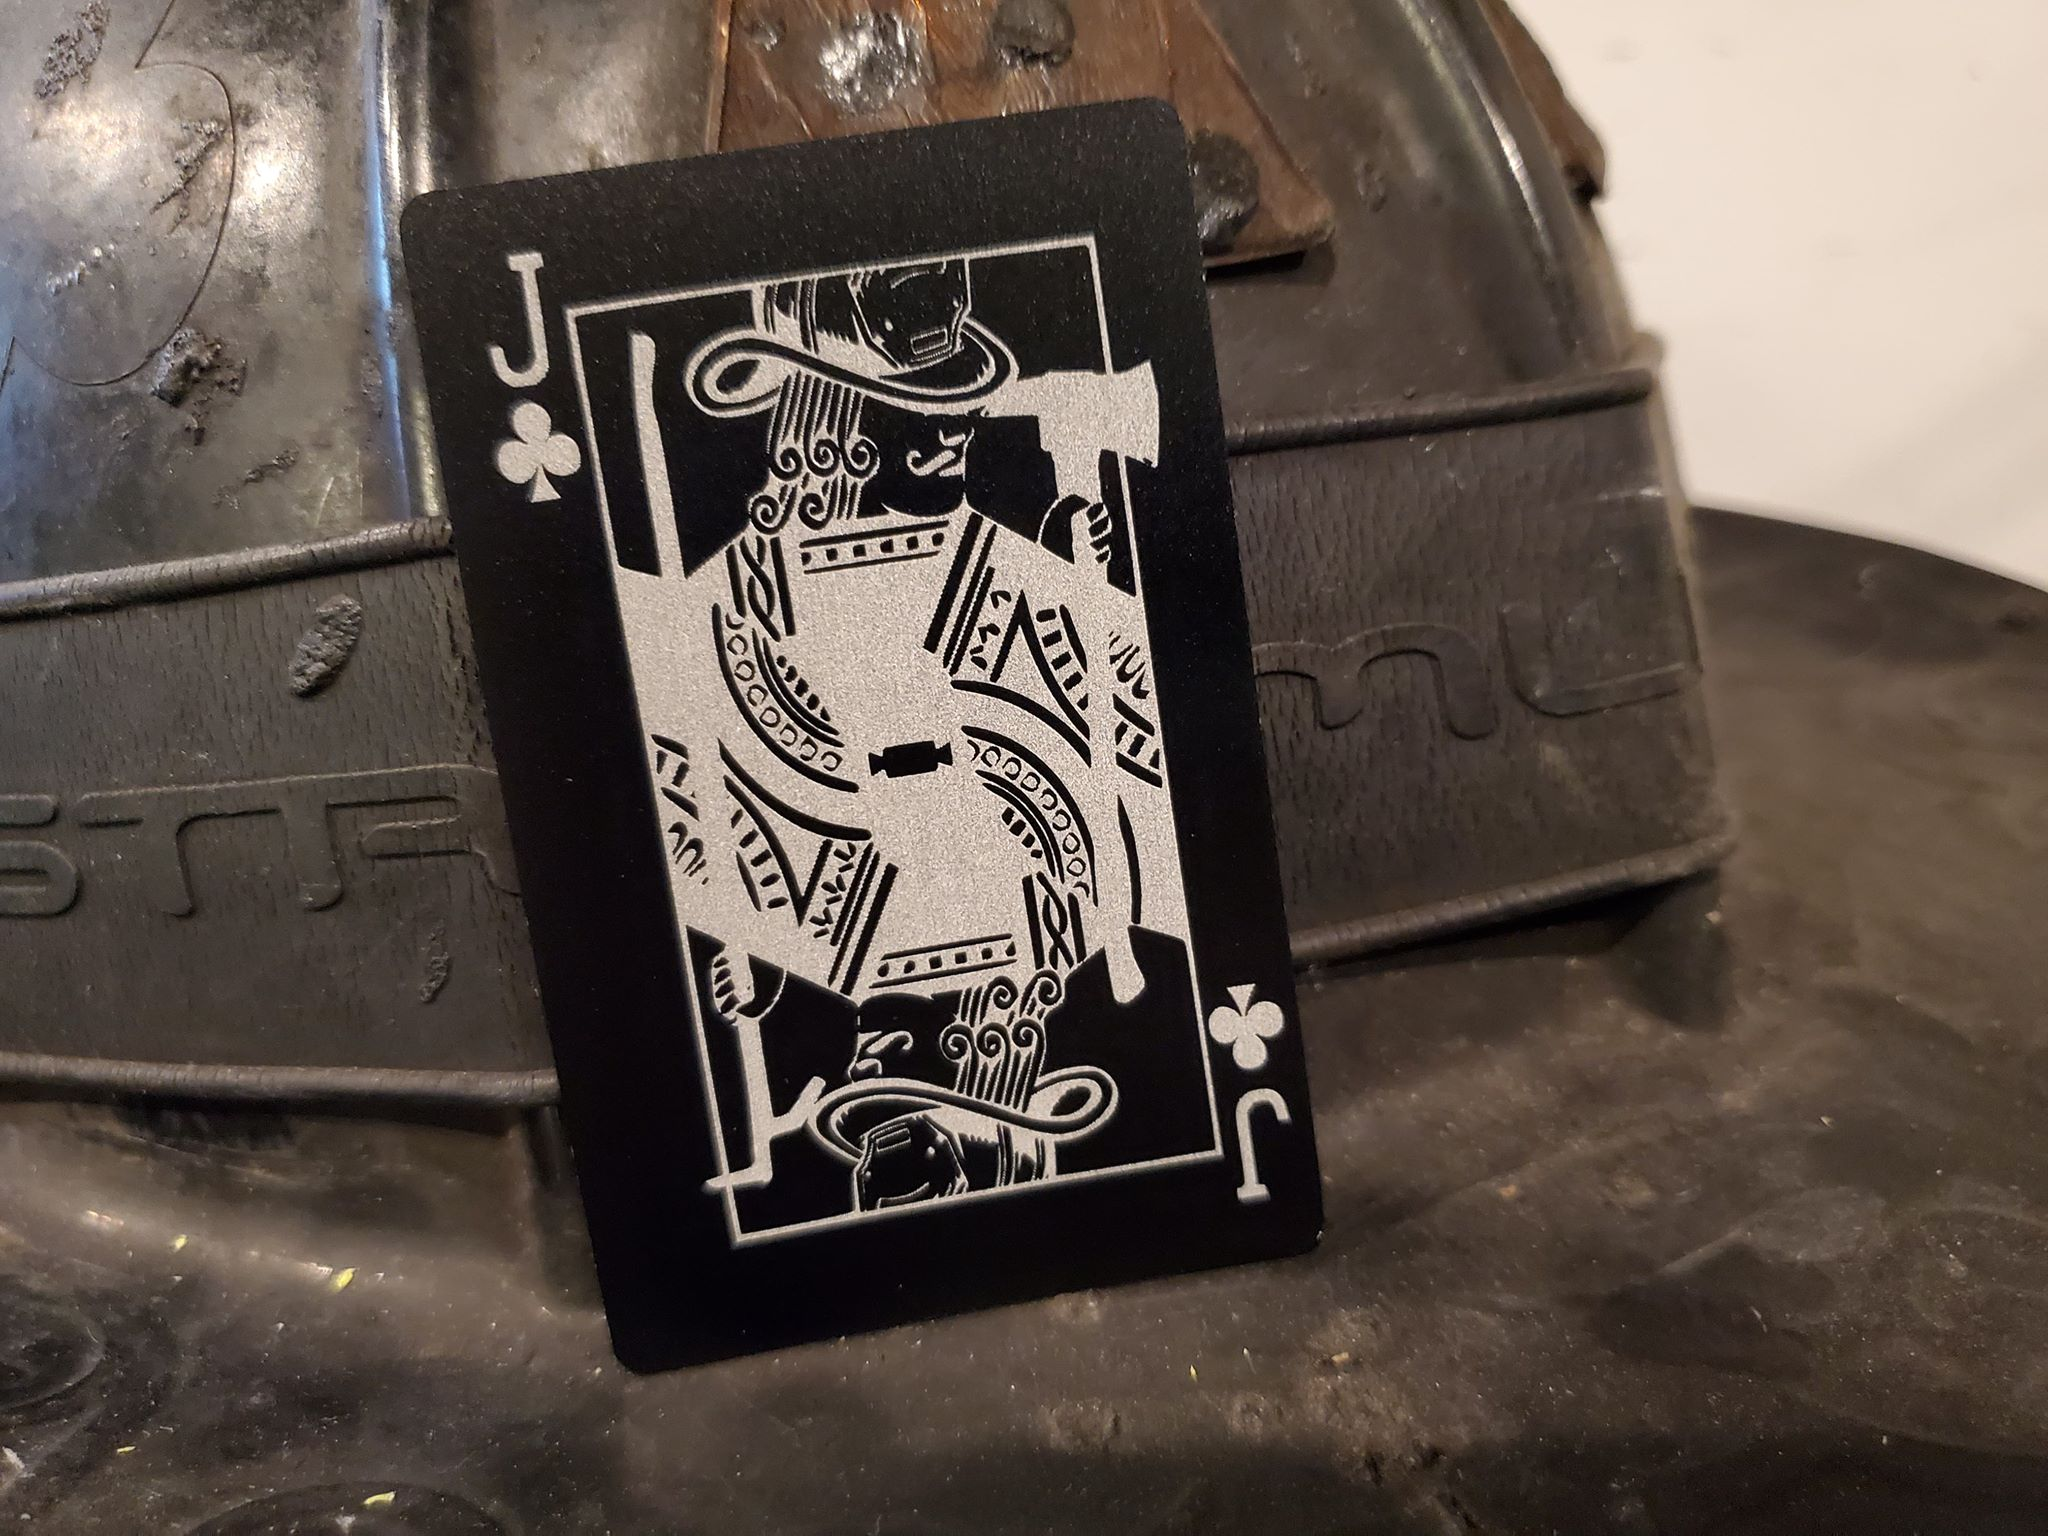jack of clubs: (399, 91, 1319, 1381)
